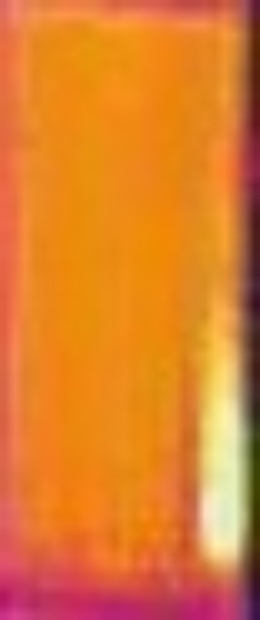Diode: (194, 291, 257, 586)
